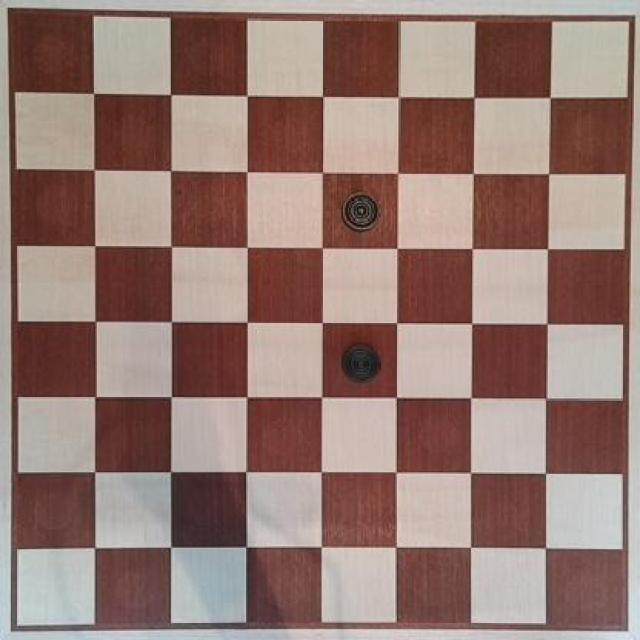BOARD: (9, 11, 626, 629)
black: (332, 185, 386, 238), (331, 333, 385, 386)
